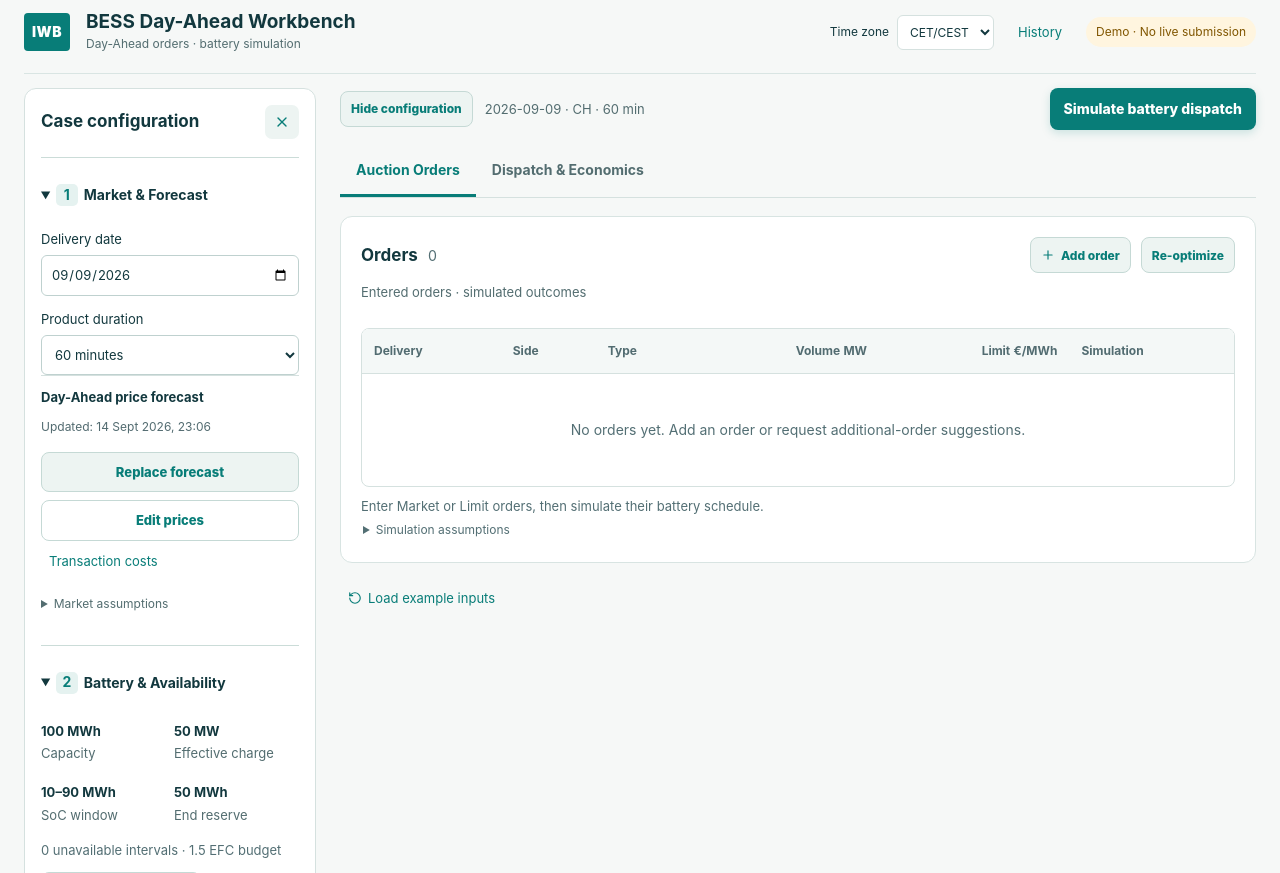
OrderSimulatorWorkbench › does not overwrite newer input edits with a delayed example response
Expected: the button "Replace forecast" is shown, [41,452,299,492]
Click the button "Load example inputs" at (422, 598), box [340,581,503,616]
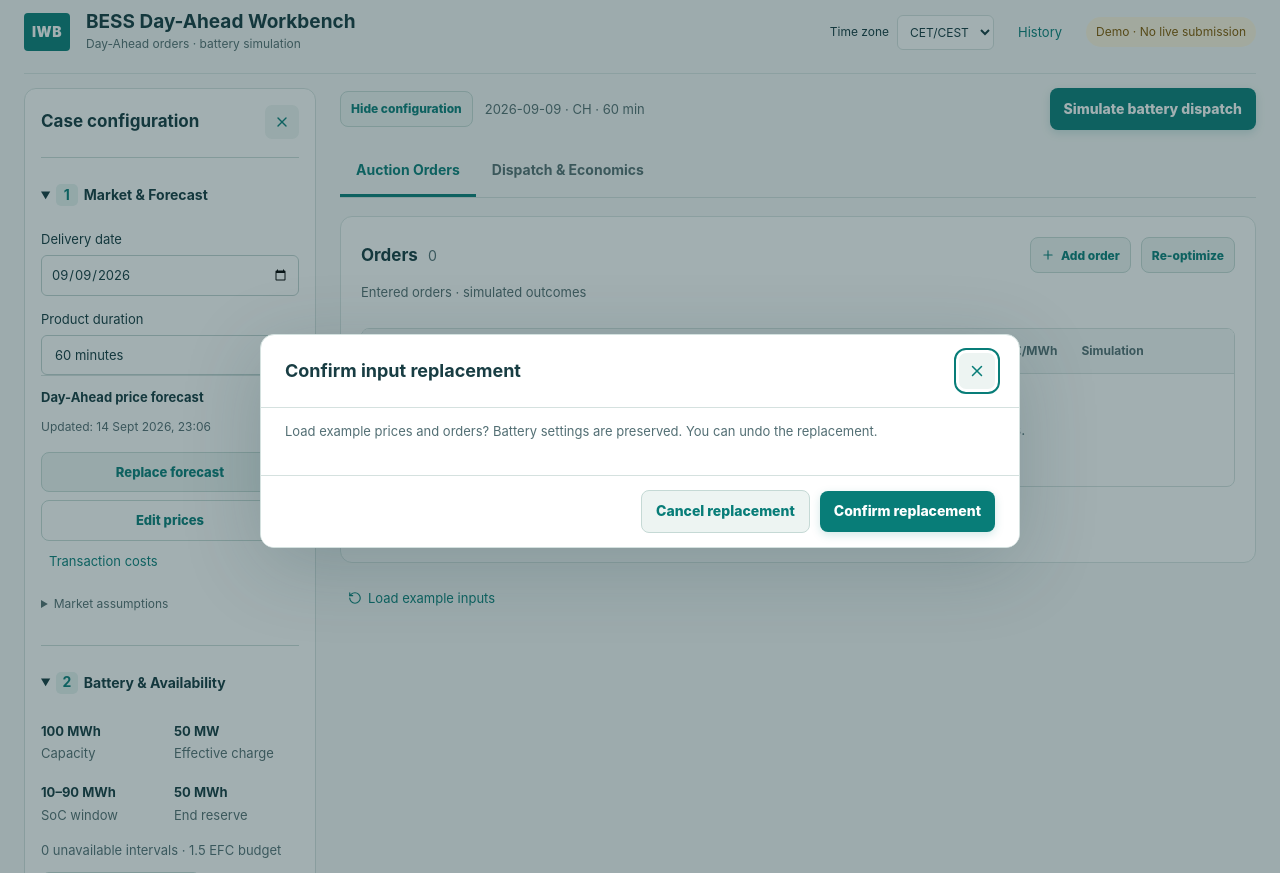
Click the button "Confirm replacement" at (907, 511), box [820,491,995,532]
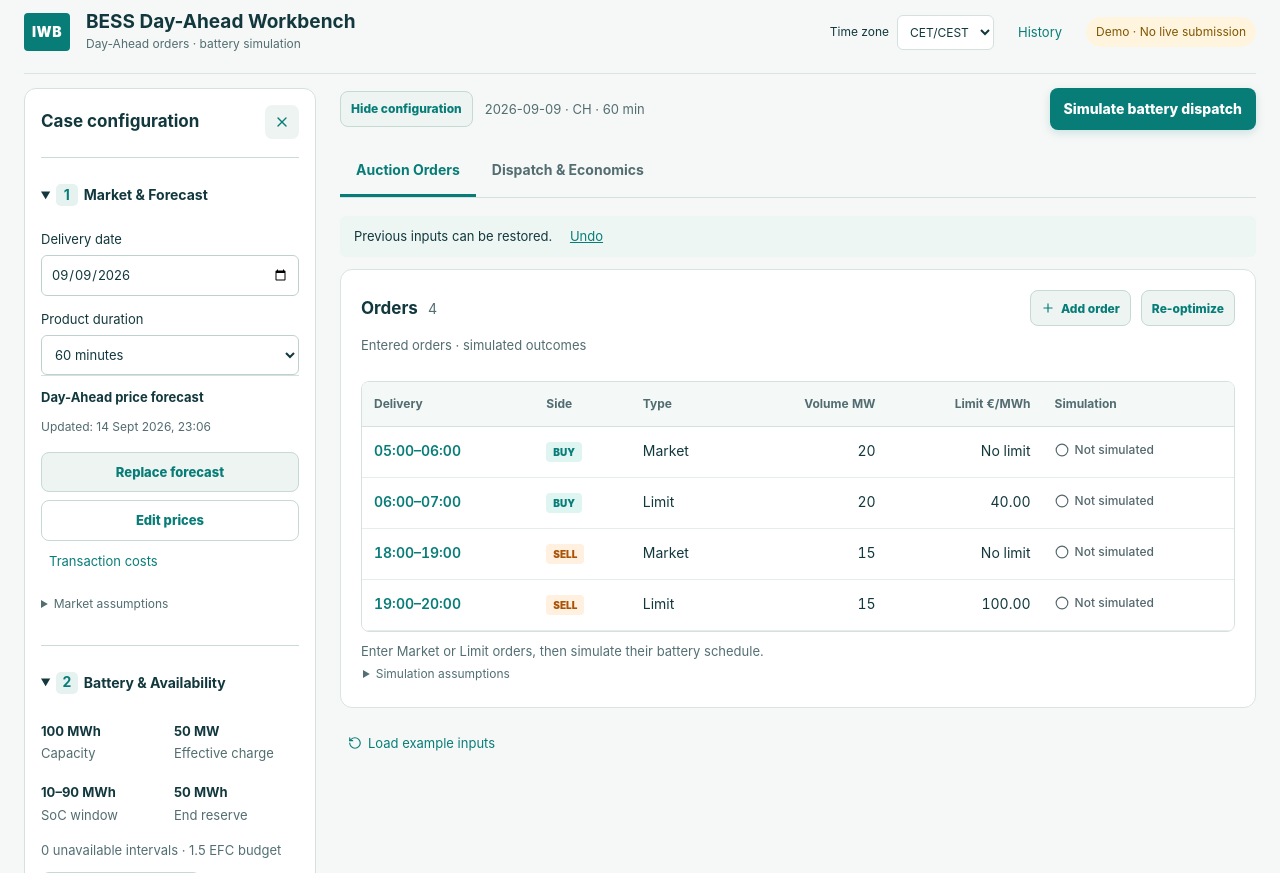
Result: the button named "Edit 05:00–06:00 BUY order" is shown
Click the button named "Edit 05:00–06:00 BUY order" at (418, 452), box [374,438,461,466]
(page scrolled)
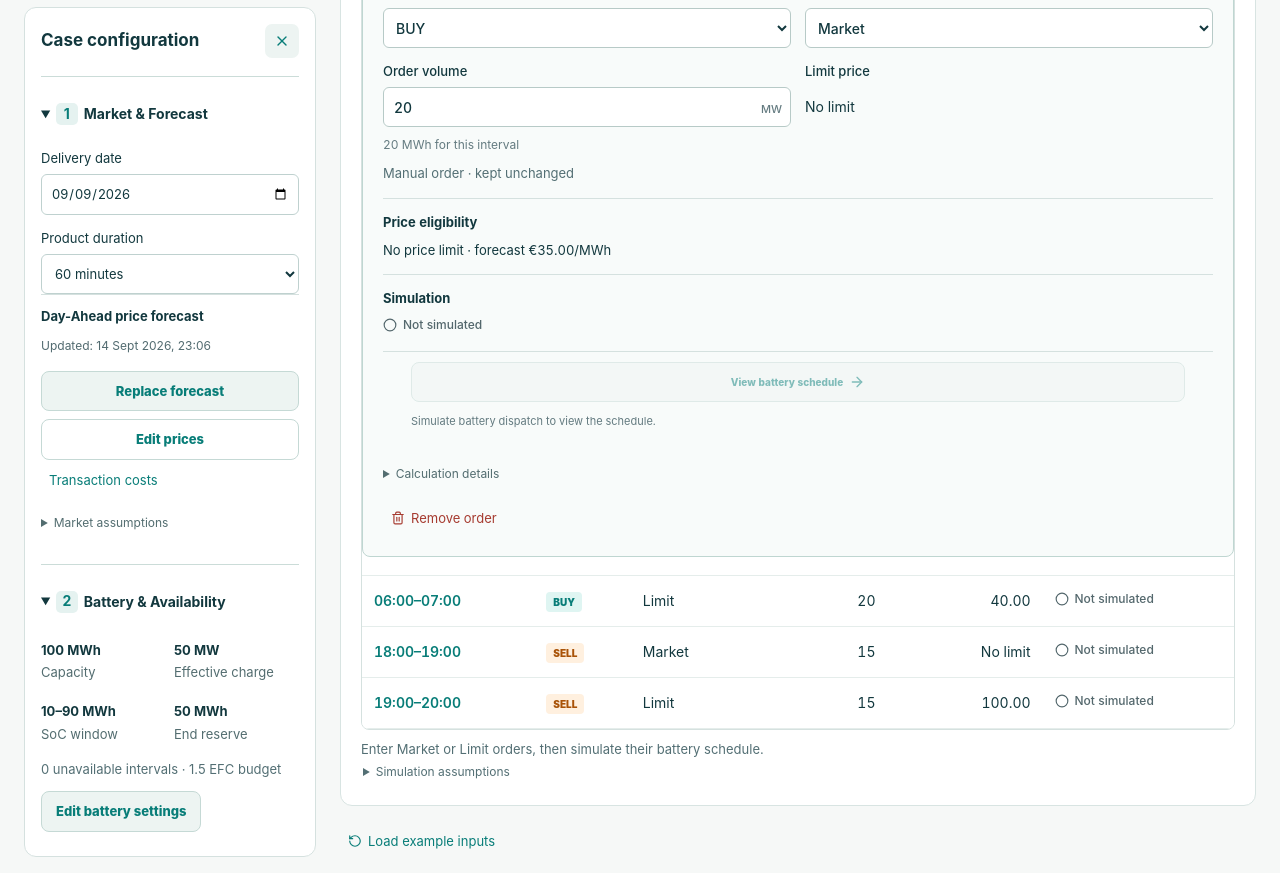
Click the button "Load example inputs" at (422, 841), box [340,824,503,859]
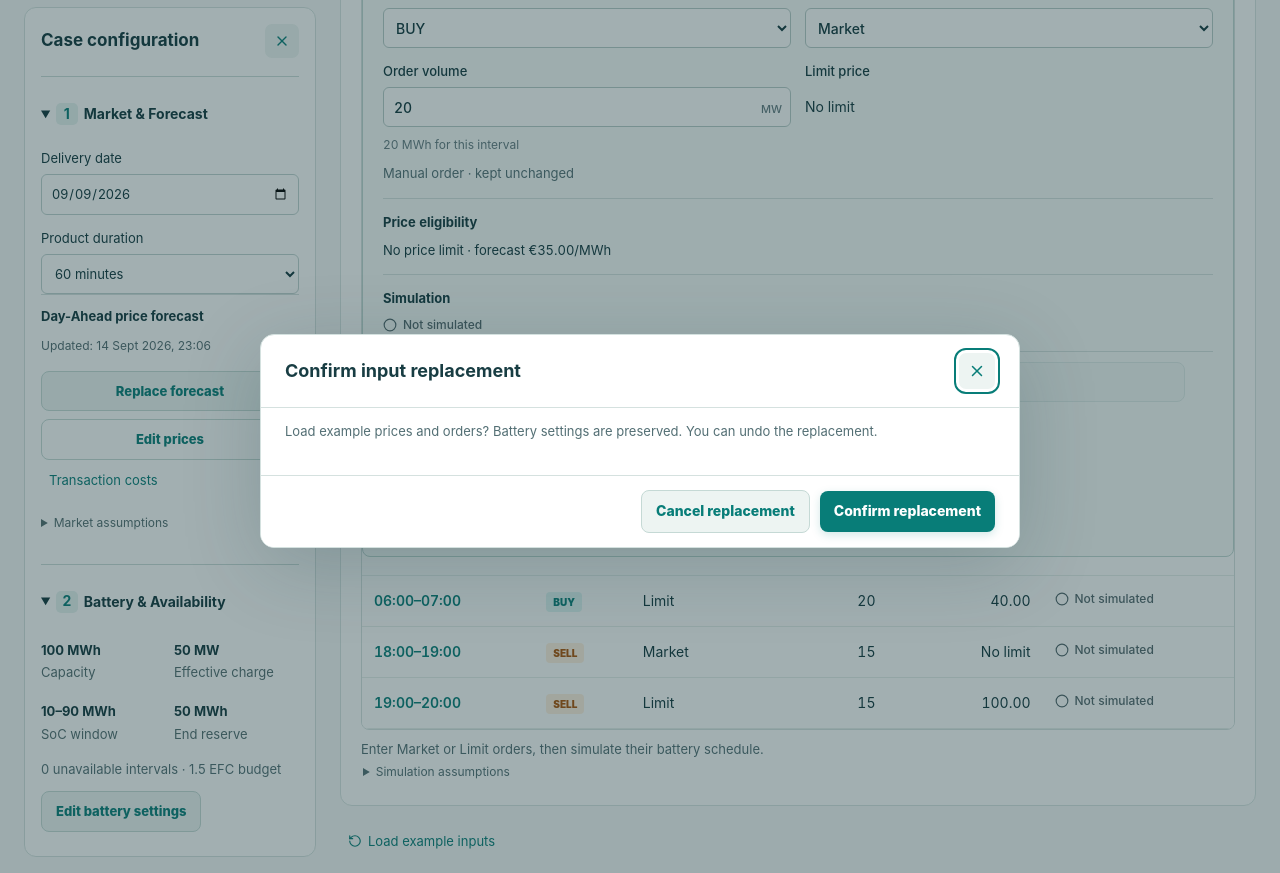
Click the button "Confirm replacement" at (907, 511), box [820,491,995,532]
(page scrolled)
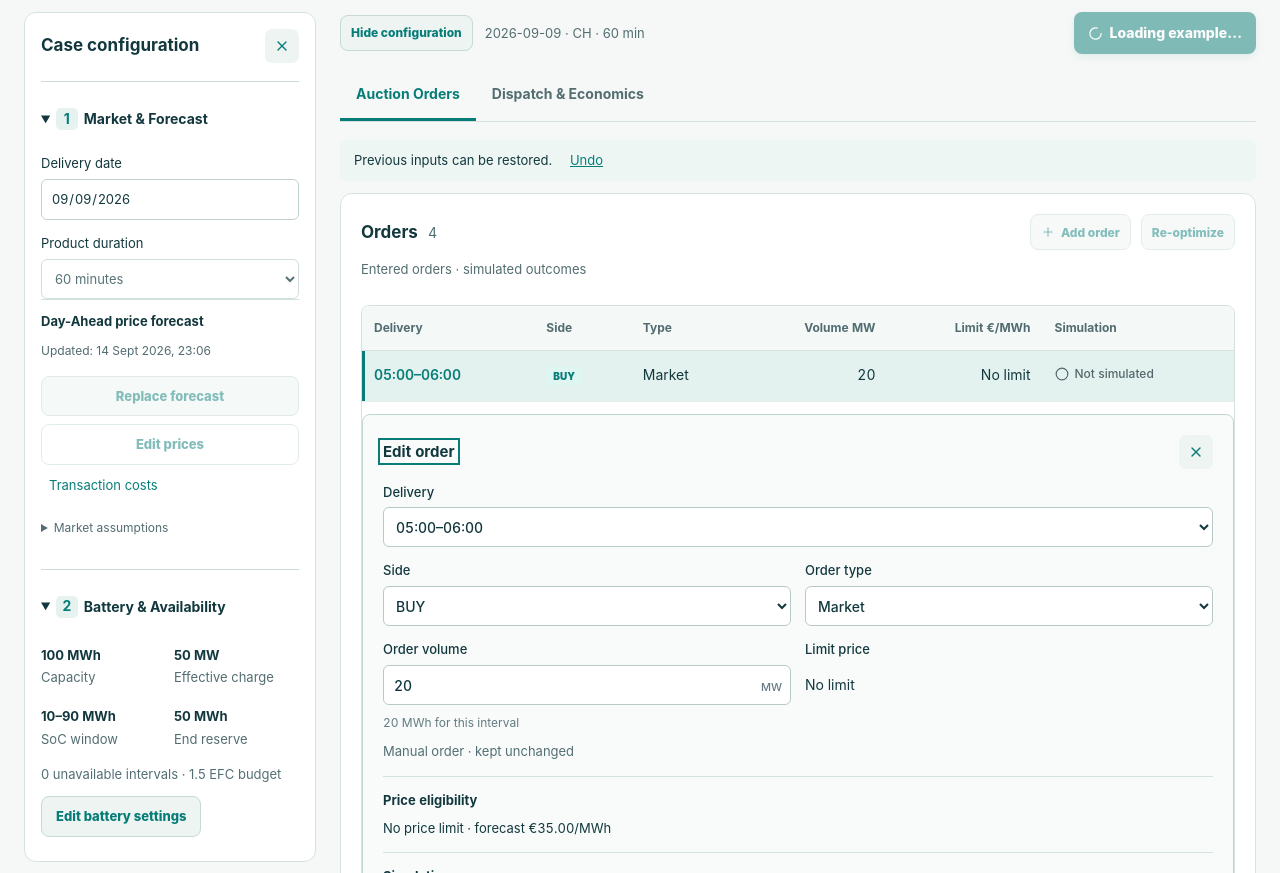
Replace the text in the number field named "Volume for order 1" with "21" at (587, 685), box [383,665,791,705]
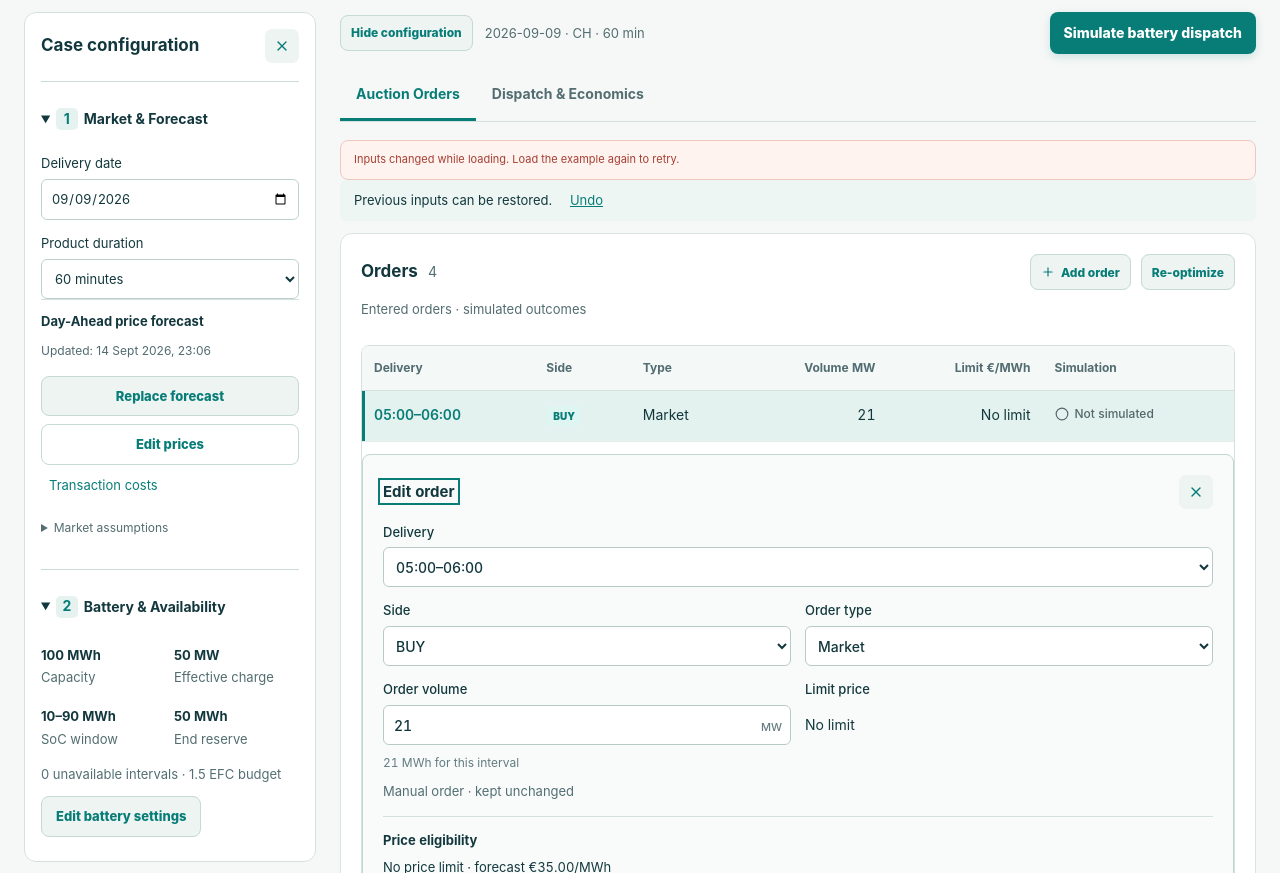
Result: the number of buttons "05:00–06:00" is 4
Result: the text "Inputs changed while loading. Load the example again to retry." is shown at [340,140,1256,180]
